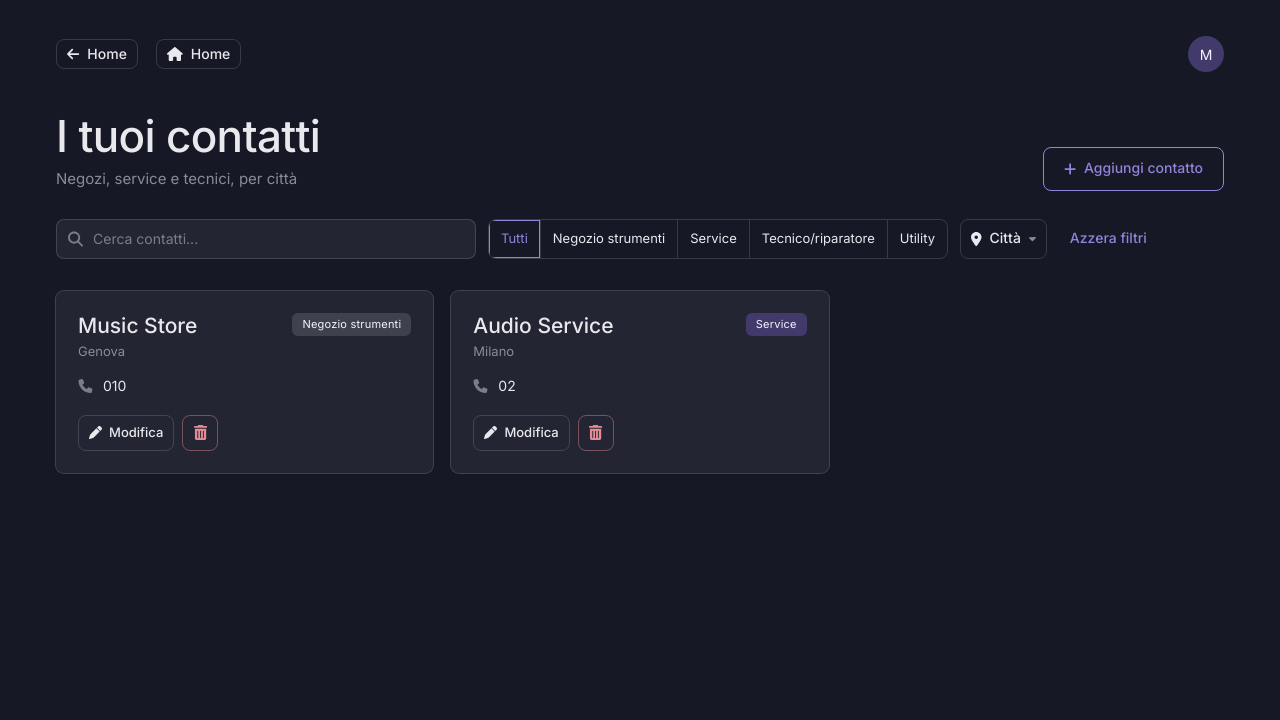
Test: UsefulContacts › aggiunge un contatto con i campi compilati
Expected: the heading "Music Store" is shown, [78,312,197,338]
Click the button "Aggiungi contatto": [1133, 168] box [1043,146,1224,190]
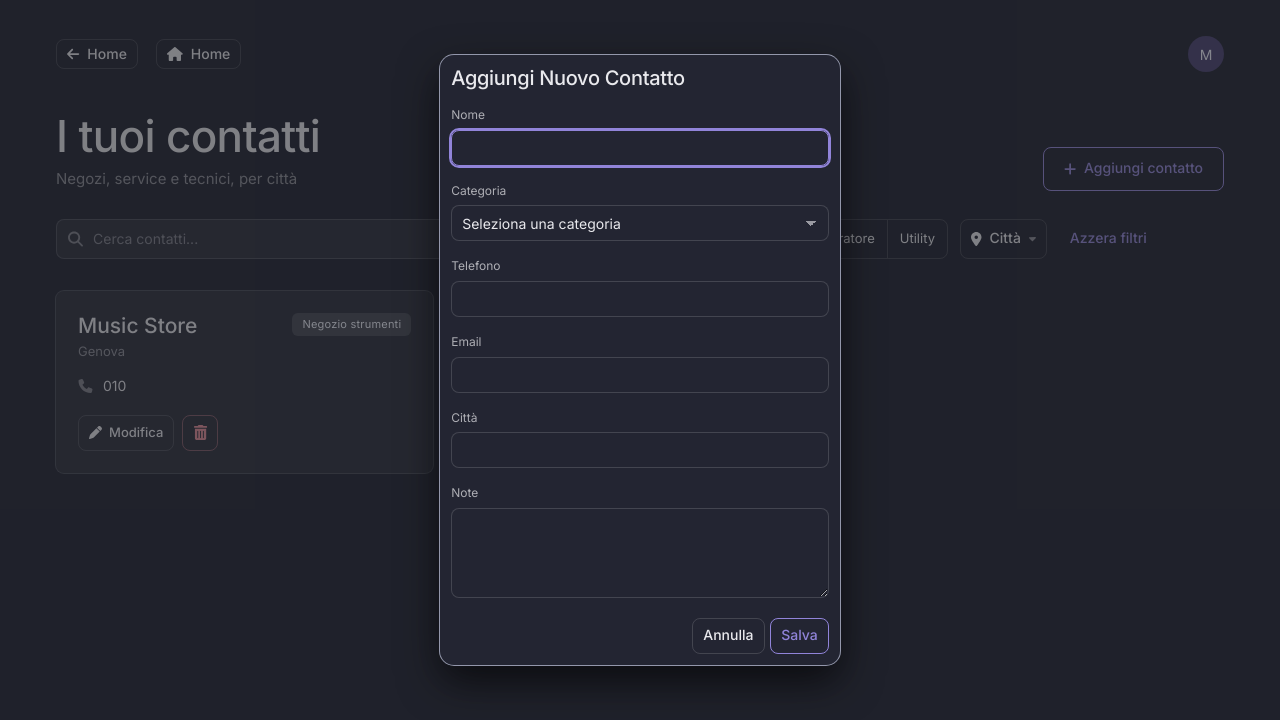
In the field labelled "Nome": [640, 148] box [451,130,829,166], type "Riparazioni Rossi"
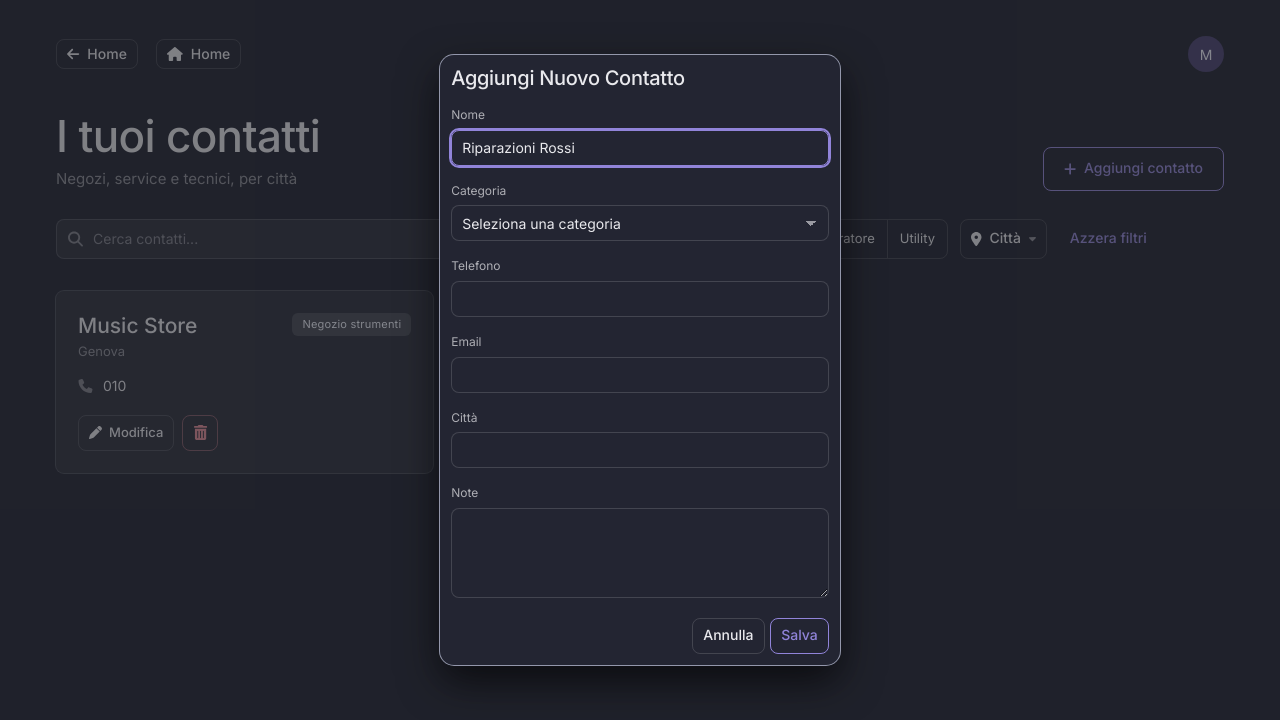
Select "Tecnico/riparatore" in the dropdown labelled "Categoria": [640, 223] box [451,205,829,241]
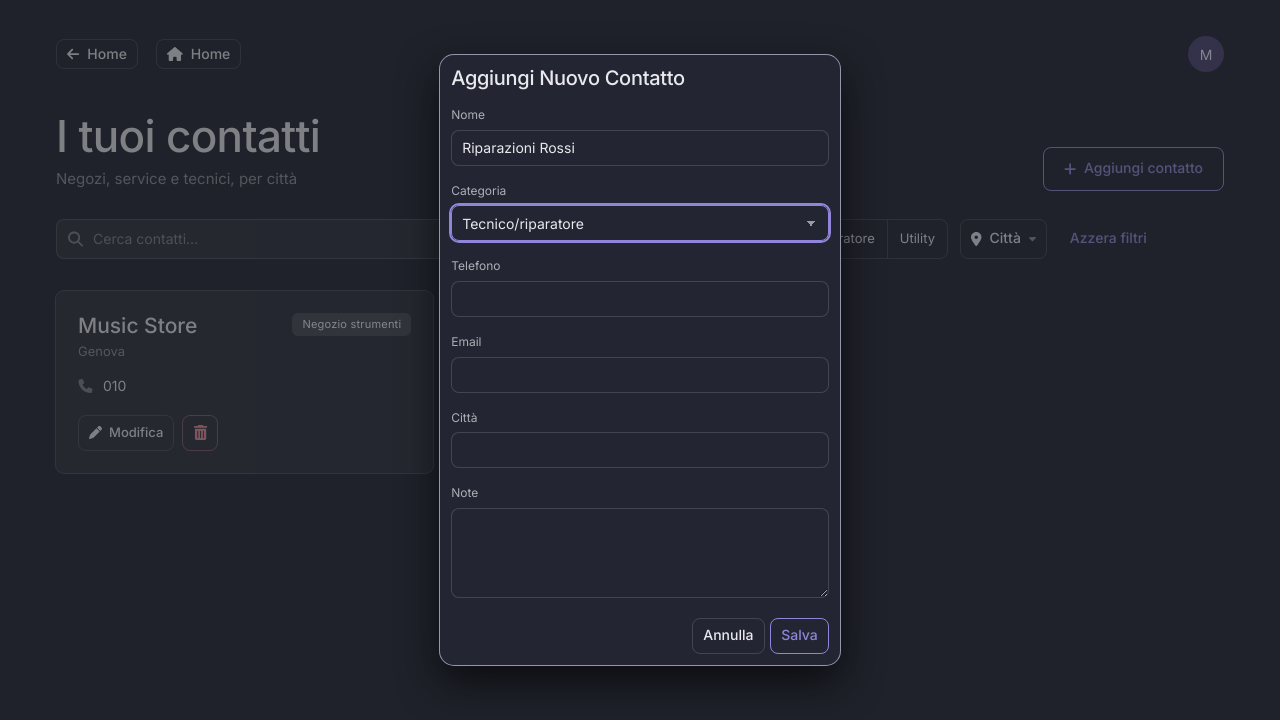
In the field labelled "Città": [640, 450] box [451,432,829,468], type "Torino"
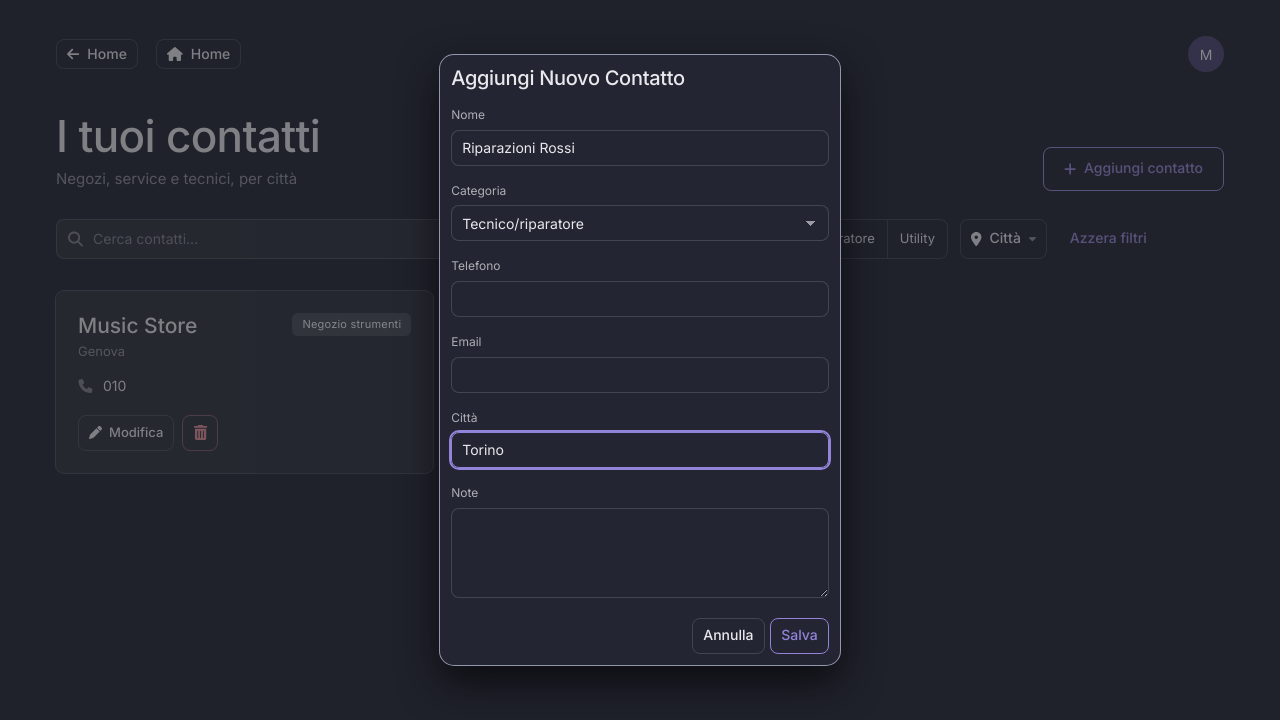
Click the button "Salva": [799, 636] box [770,618,829,654]
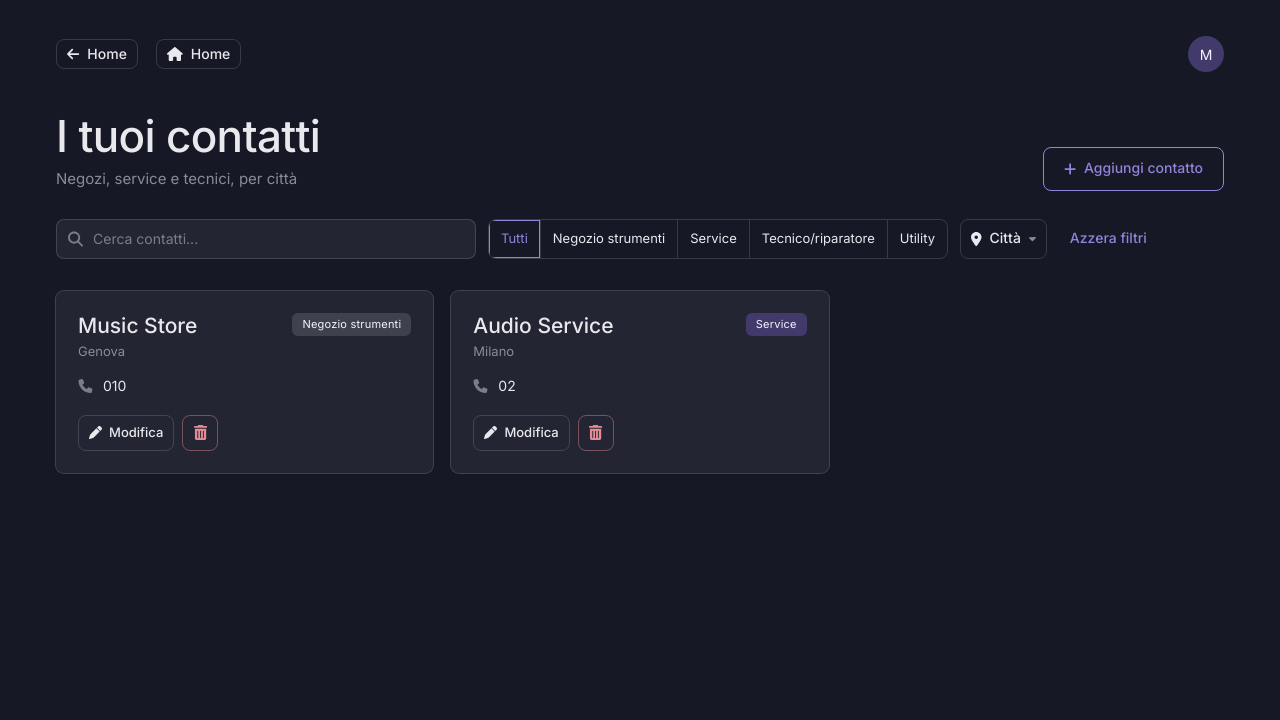
Now the dialog is gone
